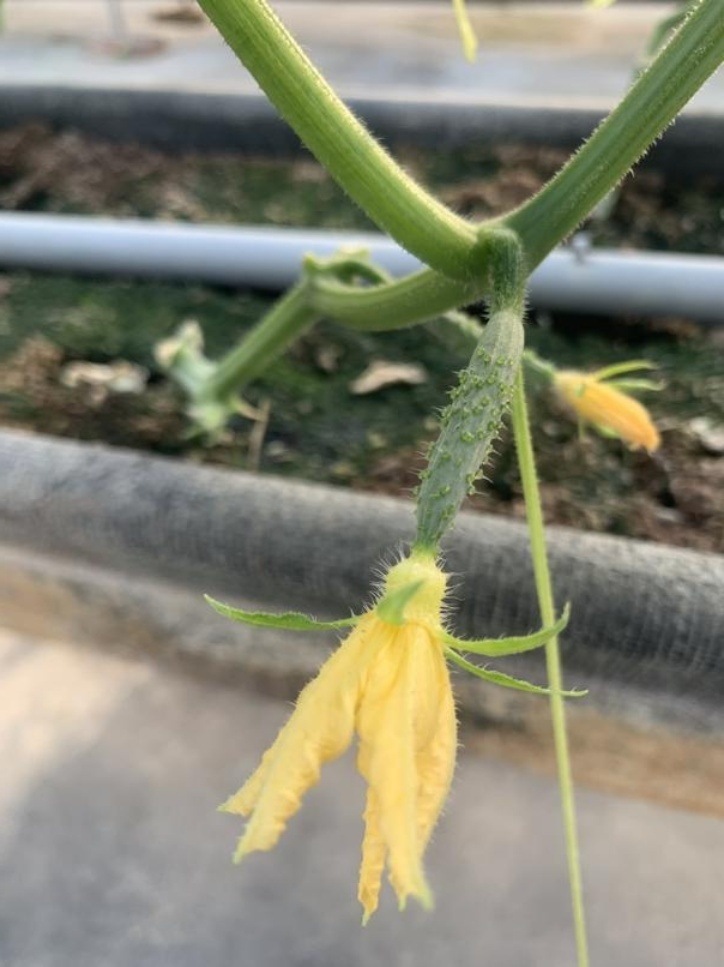bear: (209, 301, 578, 877)
